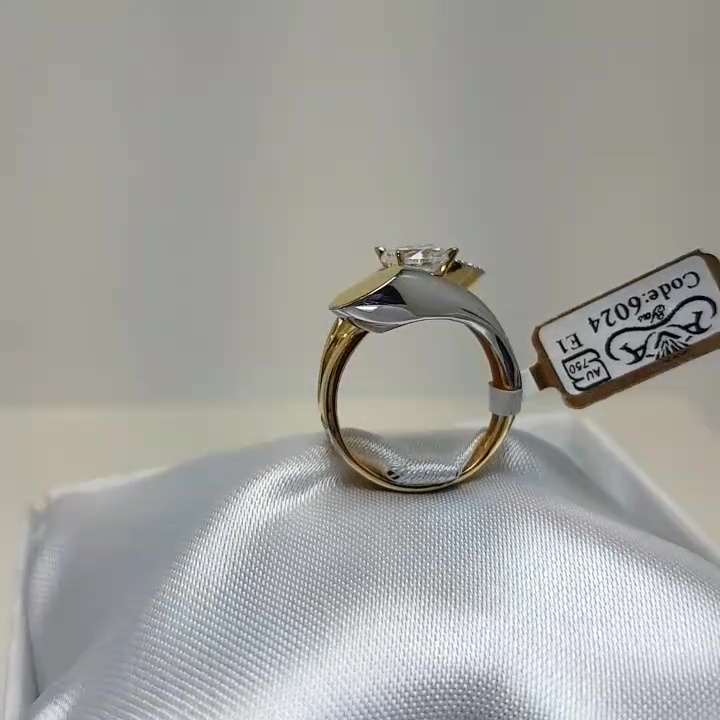Ring 7: (297, 243, 530, 484)
